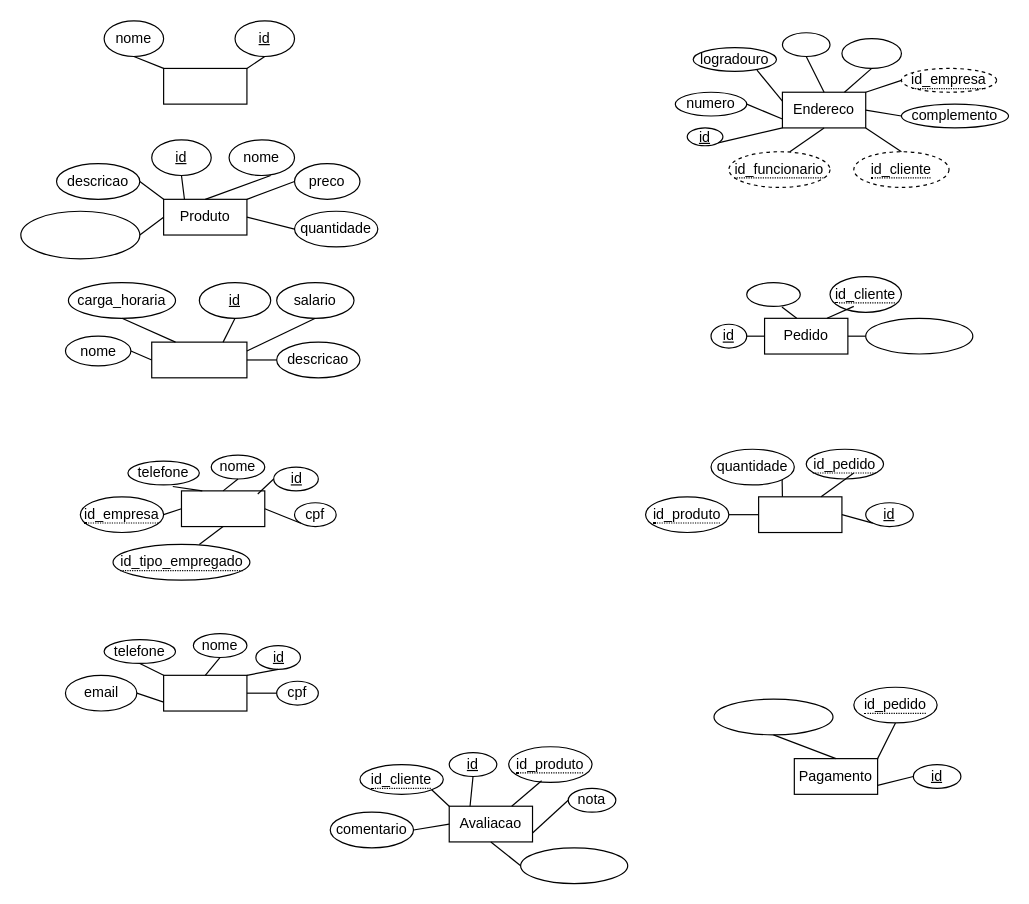
The diagram is 1029 pixels wide and 904 high, and some of its shapes have lost their labels. The centre of each missing label's shape, as x and y in pixels:
bairro: point 871,52
cep: point 805,44
Cliente: point 204,692
data_avaliacao: point 573,865
data_pagamento: point 773,716
data_pedido: point 919,335
Empresa: point 204,85
Funcionario: point 222,508
id_supermercado: point 80,234
ItensPedido: point 799,514
TipoEmprego: point 199,359
valor: point 773,293
